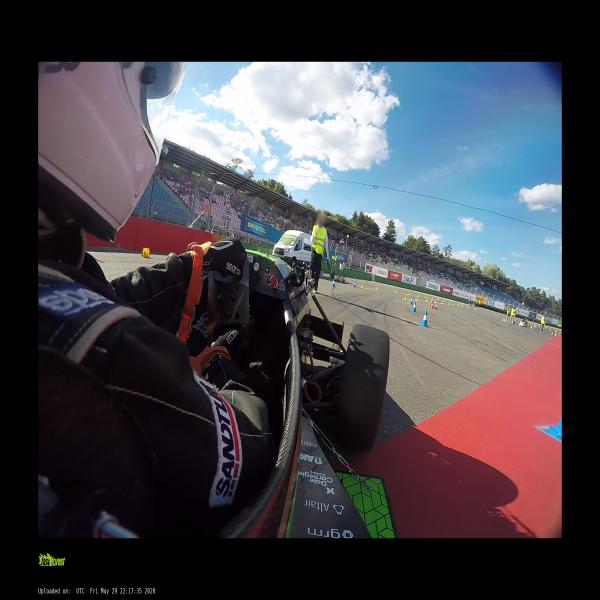blue_cone: (548, 394, 561, 441), (420, 311, 428, 327), (412, 302, 416, 312), (332, 278, 335, 288), (353, 280, 356, 288), (410, 297, 413, 304)
orange_cone: (430, 302, 433, 308), (431, 298, 434, 303), (435, 304, 437, 310)
yellow_cone: (142, 247, 150, 258), (404, 294, 407, 300), (376, 285, 379, 290), (362, 282, 364, 288), (396, 288, 398, 294), (497, 314, 500, 317), (502, 318, 504, 322), (426, 298, 428, 302), (416, 297, 418, 301), (435, 299, 437, 303), (457, 303, 459, 307), (408, 292, 410, 295), (448, 302, 450, 305), (442, 300, 443, 304), (425, 295, 426, 298), (485, 310, 486, 313), (493, 312, 494, 315), (418, 294, 419, 297), (453, 303, 454, 306), (462, 305, 463, 307), (467, 306, 468, 308), (474, 308, 475, 310), (462, 303, 462, 306), (476, 308, 476, 310)
